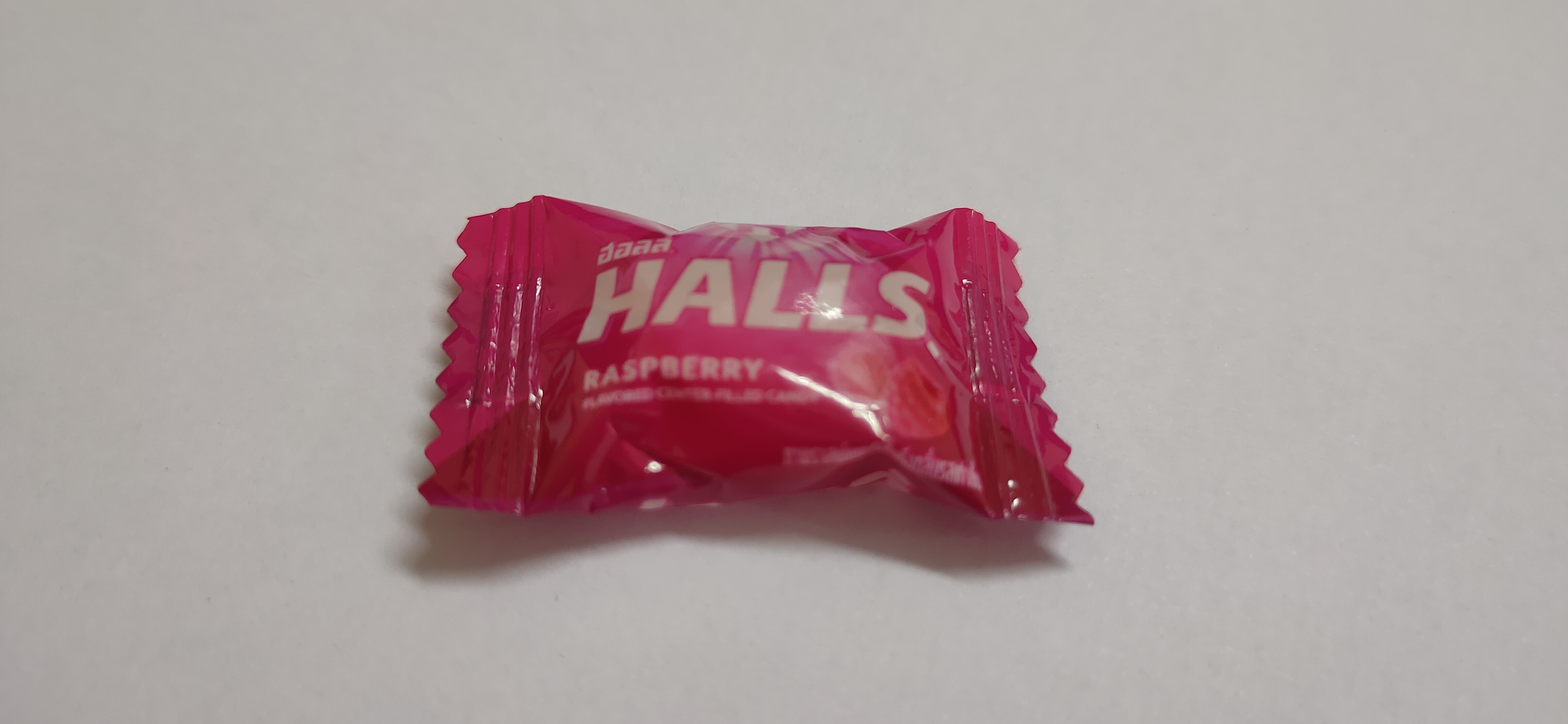plastic: (409, 171, 1133, 584)
